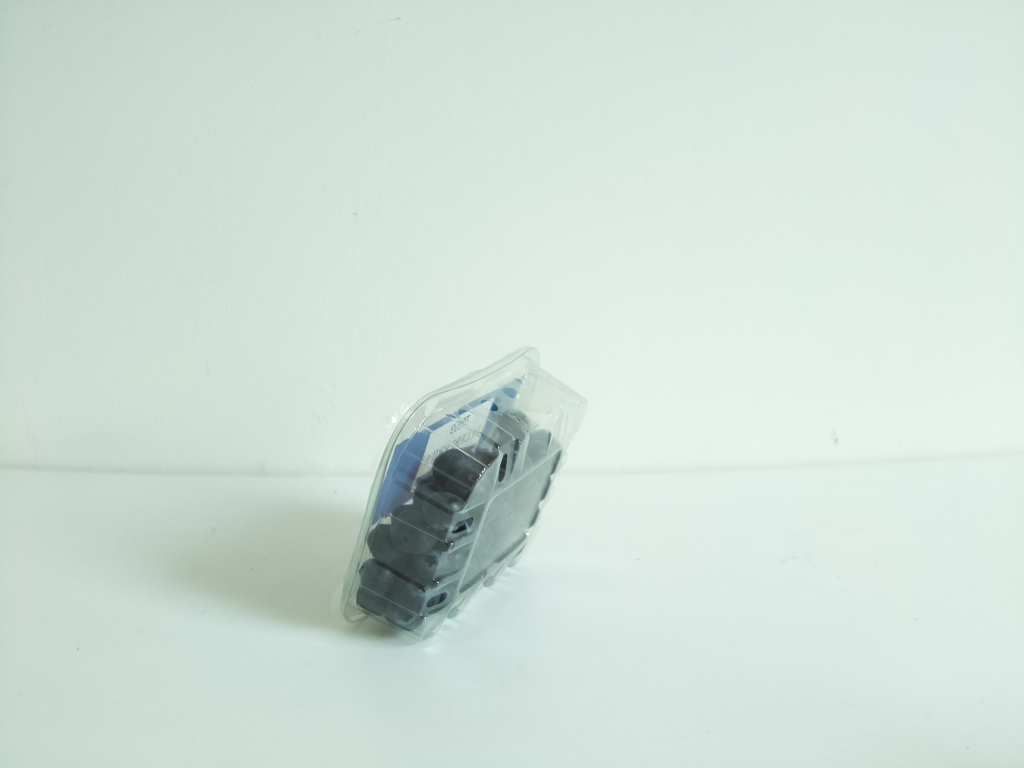soft-fruit: (338, 342, 587, 640)
